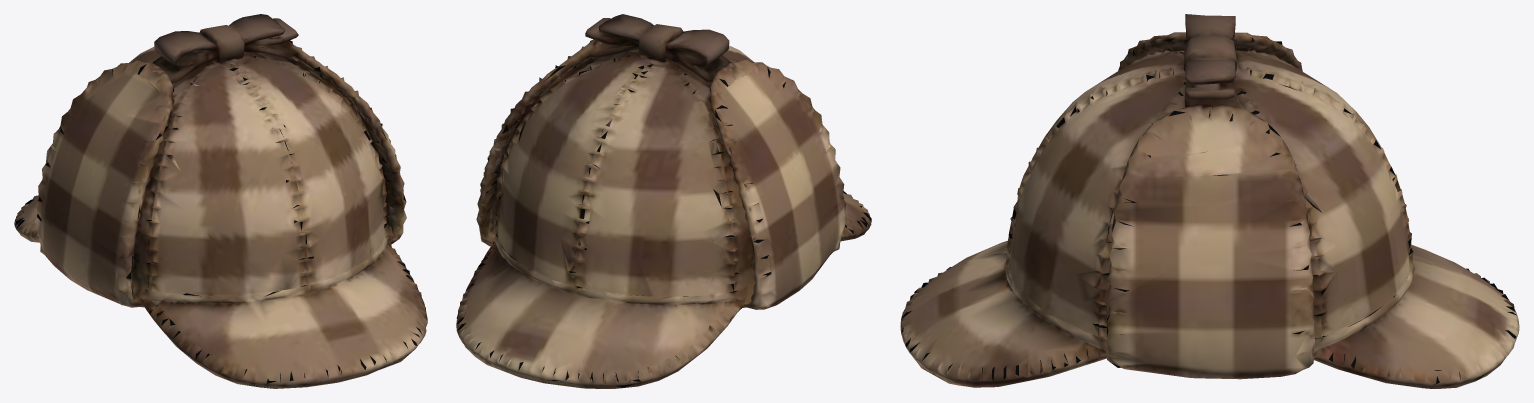
File: deerstalker.glb
3 views of the same model, side by side, from view 1: azimuth 30°, elevation 25°; view 2: azimuth 150°, elevation 25°; view 3: azimuth 270°, elevation 25° (orthographic). The views are drawn at different scales.
Visible parts, largest first — view 1: node_0; view 2: node_0; view 3: node_0.
Boxes of the visible parts, x1,y1,x2,y2 form: node_0: (14,14,427,388); node_0: (456,14,871,388); node_0: (900,14,1519,388).
Bounding box in the file's own units: 0.46 × 0.3776 × 0.7129.
1 material, 1 textured.
